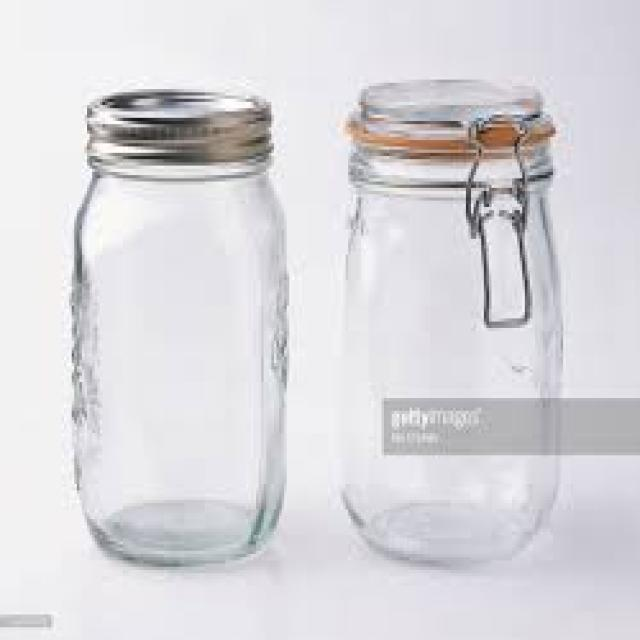glass: (335, 80, 558, 561), (69, 156, 284, 564)
metal: (85, 86, 272, 159)
